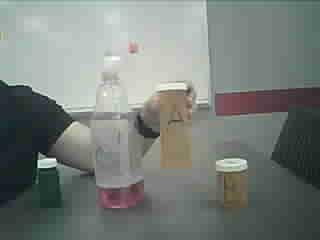Bottle A: (157, 77, 194, 175)
Bottle B: (211, 150, 256, 219)
Bottle C: (33, 155, 66, 208)
hazard: (87, 38, 146, 214)
